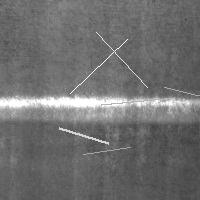scratches: (1, 94, 200, 122), (65, 34, 132, 98), (91, 27, 152, 92), (54, 123, 113, 148), (96, 92, 179, 109), (159, 82, 200, 107), (78, 142, 135, 159)
